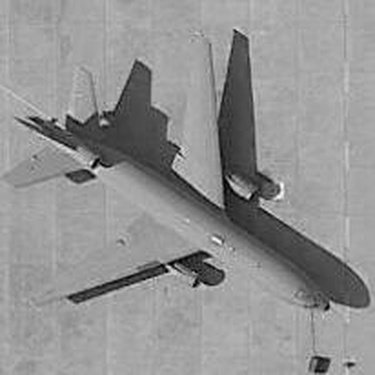airplane: (6, 33, 346, 346)
